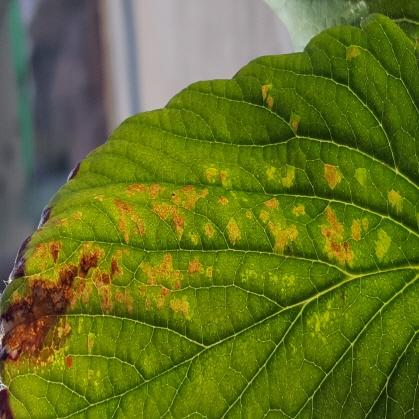Angular Leafspot: (0, 40, 413, 418)
